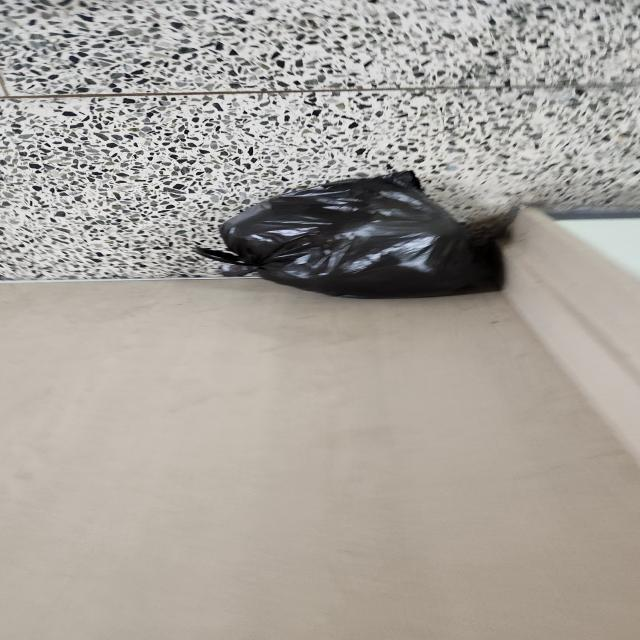black_bag: (194, 170, 506, 295)
